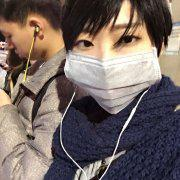NONE: (4, 14, 45, 62)
OK: (68, 18, 158, 108)
